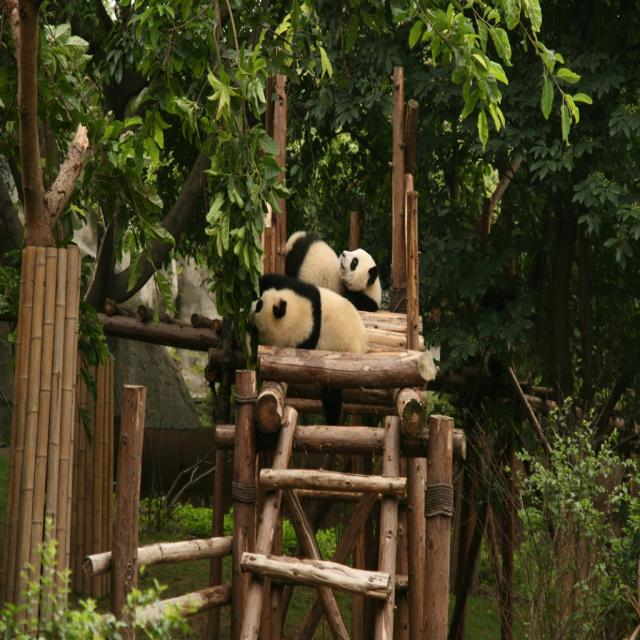panda: (256, 267, 372, 423), (285, 225, 348, 299), (336, 245, 384, 315)
